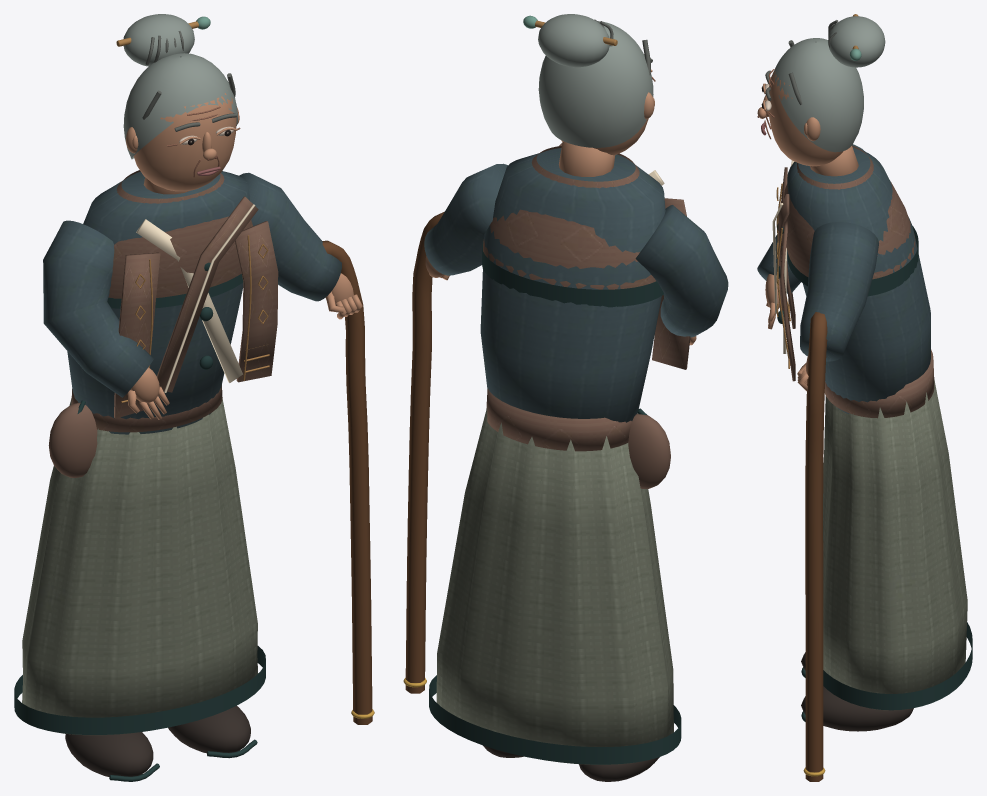
Rendered from granny.glb.
3 views of the same model, side by side, from view 1: azimuth 30°, elevation 25°; view 2: azimuth 150°, elevation 25°; view 3: azimuth 270°, elevation 25° (orthographic). The views are drawn at different scales.
Visible parts, largest first — view 1: granny; view 2: granny; view 3: granny.
Part boxes in pixels (x1,y1,x2,y2): granny: (14,14,374,781); granny: (403,14,728,781); granny: (757,14,972,781).
Bounding box in the file's own units: 0.6957 × 1.52 × 0.4344.
Materials: 4 (4 with a texture image).
